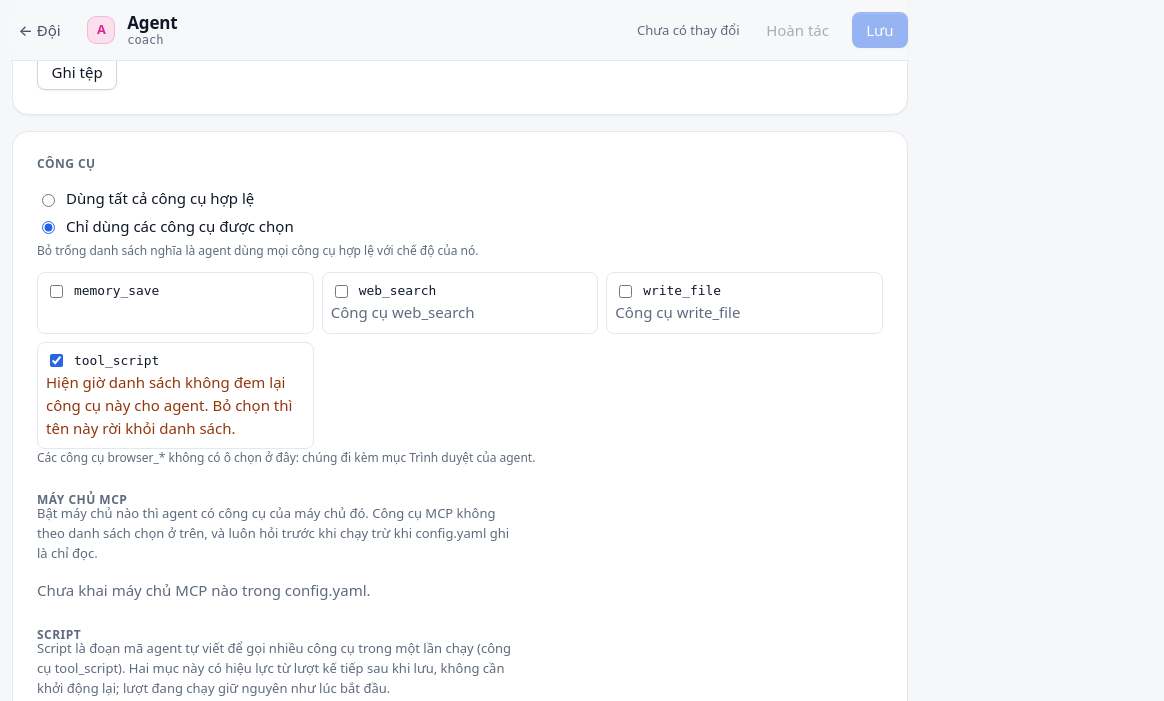
a name the list holds that the server does not list for this agent › hands the keyboard to “every tool” when it was the last name, which is what the form then says
The width and height of the screenshot is (1164, 701).
(page scrolled)
Click the checkbox labelled "tool_script". click: coordinates (56, 361)
box: [50, 354, 63, 367]
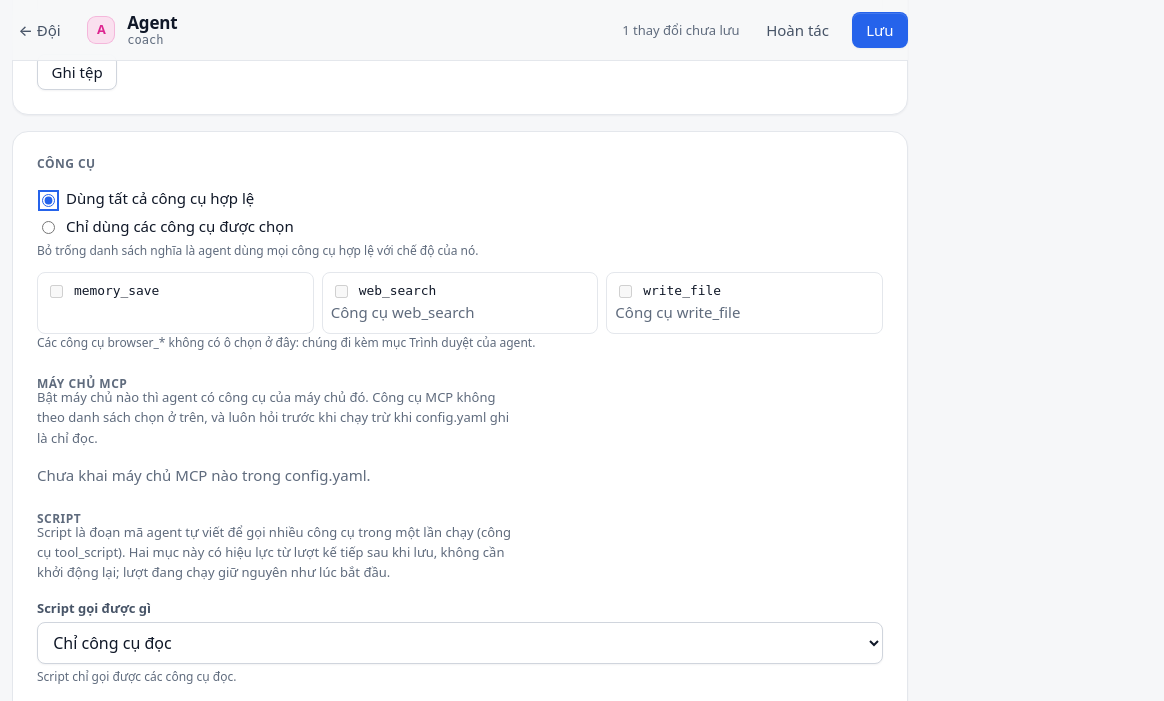
Check: the radio button labelled "Dùng tất cả công cụ hợp lệ" is checked, box [42, 194, 55, 207]
